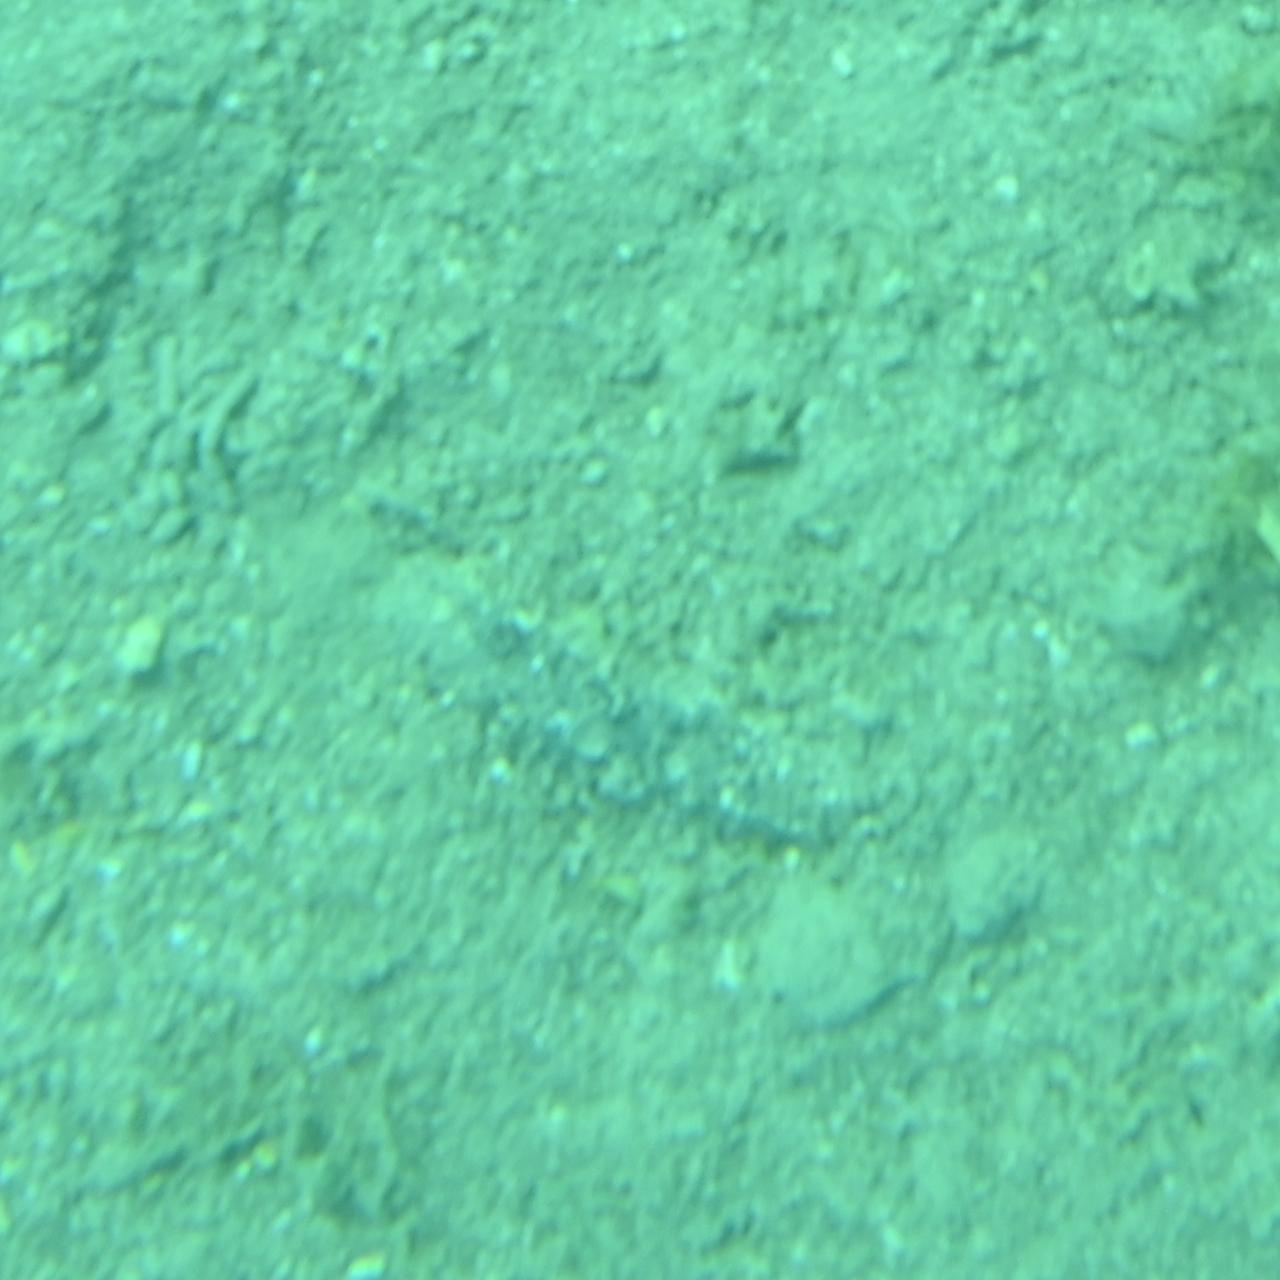Holothuria tubulosa: (400, 581, 880, 871)
